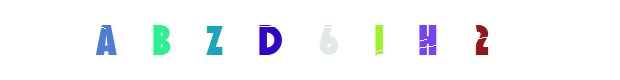2: (441, 0, 521, 80)
6: (271, 0, 351, 80)
A: (73, 0, 153, 80)
B: (120, 0, 200, 80)
D: (229, 0, 309, 80)
H: (368, 0, 448, 80)
I: (338, 0, 418, 80)
Z: (174, 0, 254, 80)
